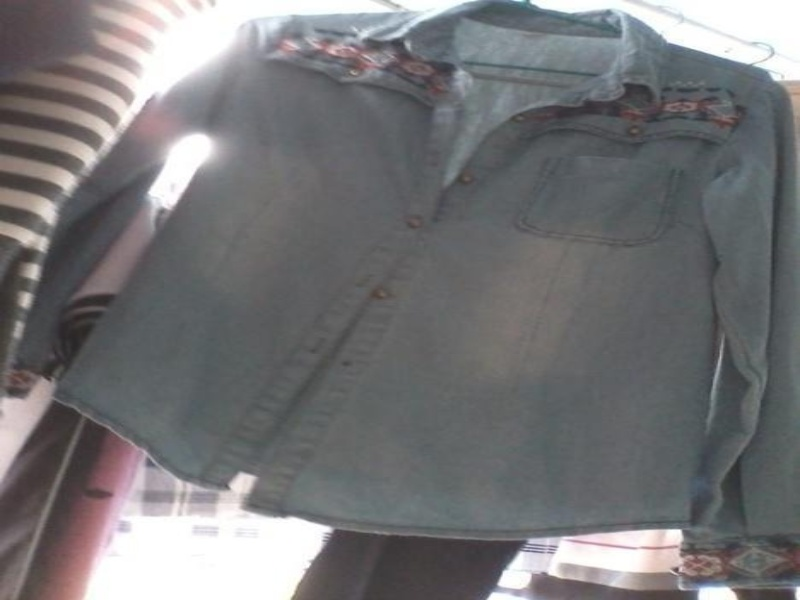long_sleeved_shirt: (3, 0, 797, 599)
